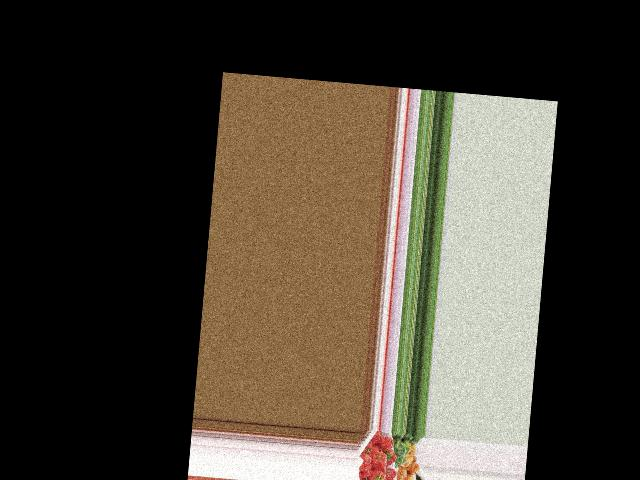bell_pepper: (356, 452, 372, 479)
